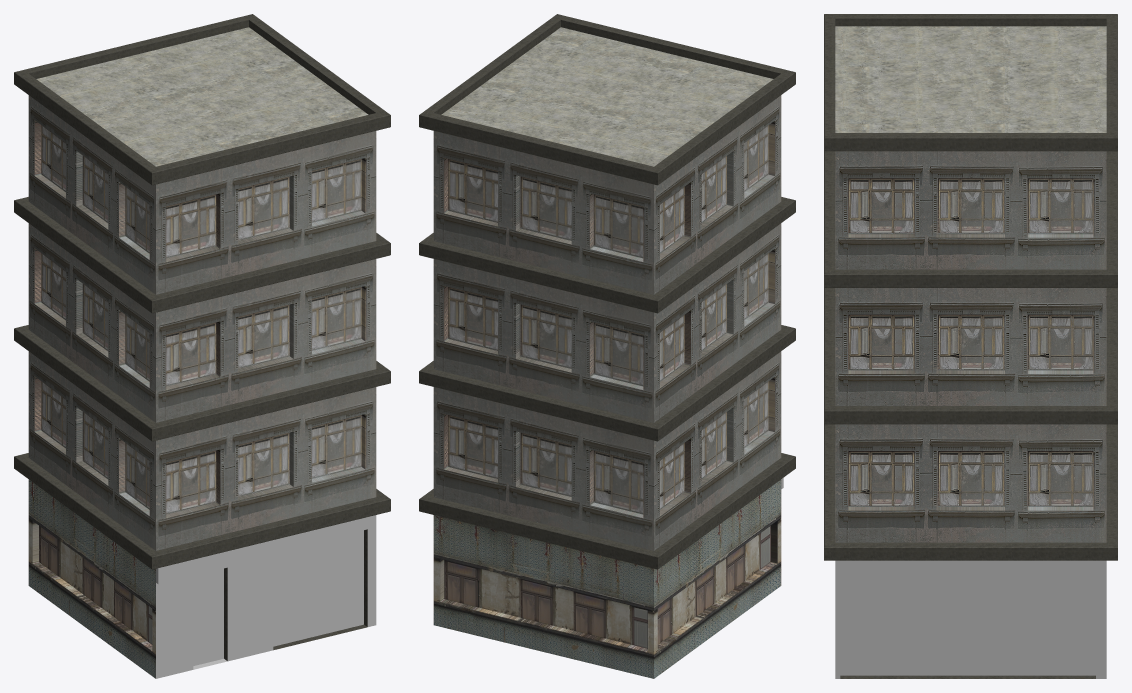
The model's file is CT_door_023.fbx.
The picture shows the model from 3 angles, left to right: view 1: azimuth 30°, elevation 25°; view 2: azimuth 150°, elevation 25°; view 3: azimuth 270°, elevation 25°; orthographic projection. The views are drawn at different scales.
Visible parts, largest first — view 1: CT_door_023; view 2: CT_door_023; view 3: CT_door_023.
Part boxes in pixels (left/top/right/bottom): CT_door_023: left=14, top=14, right=390, bottom=678; CT_door_023: left=419, top=14, right=795, bottom=678; CT_door_023: left=824, top=14, right=1117, bottom=678.
Bounding box in the file's own units: 555 × 1138 × 555.
